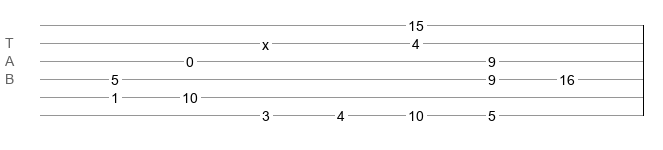0: (186, 54, 194, 64)
1: (111, 90, 119, 100)
10: (182, 90, 198, 100), (408, 108, 424, 118)
15: (408, 18, 424, 28)
16: (559, 72, 575, 82)
3: (262, 108, 270, 118)
4: (337, 108, 345, 118), (412, 36, 420, 46)
5: (111, 72, 119, 82), (488, 108, 496, 118)
9: (488, 54, 496, 64), (488, 72, 496, 82)
x: (262, 37, 269, 45)
